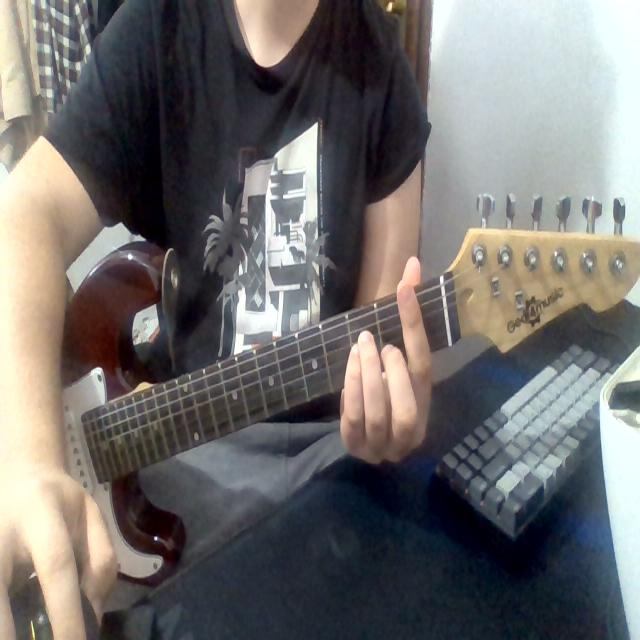Bm: (332, 190, 447, 492)
